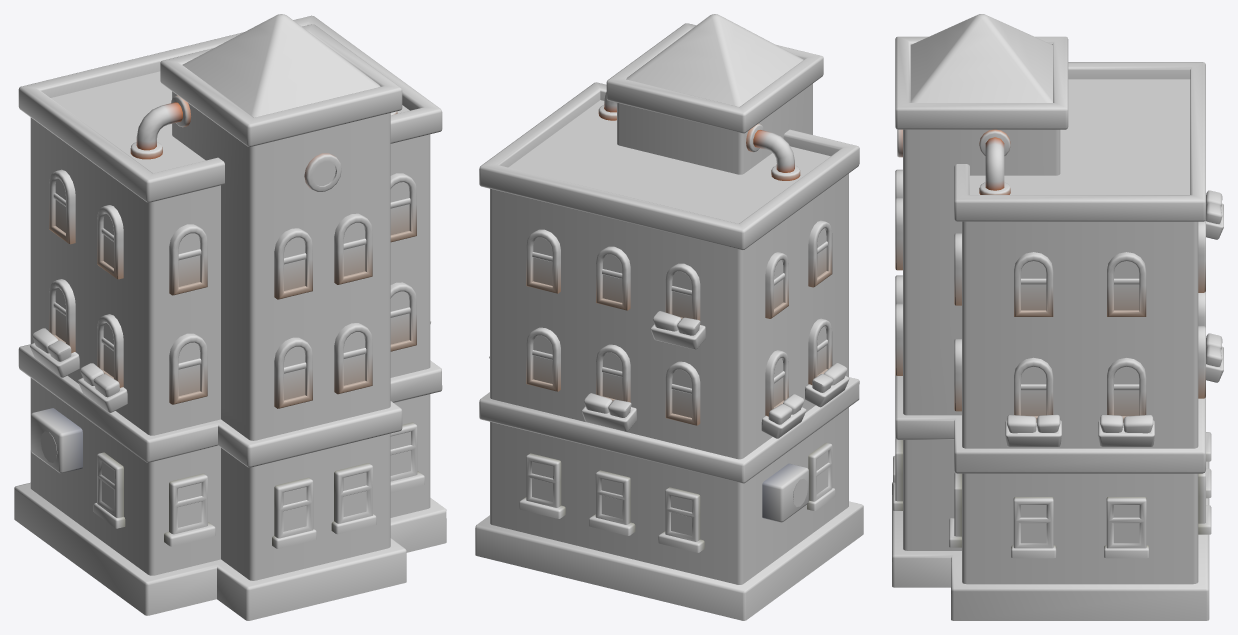
Rendered from NF_Bld_Apartment 50.fbx.
3 renders of one model, left to right at view 1: azimuth 30°, elevation 25°; view 2: azimuth 150°, elevation 25°; view 3: azimuth 270°, elevation 25°, orthographic. The views are drawn at different scales.
Visible parts, largest first — view 1: Apart_50; view 2: Apart_50; view 3: Apart_50.
Part boxes in pixels (x1,y1,x2,y2): Apart_50: [14, 14, 446, 620]; Apart_50: [475, 14, 863, 620]; Apart_50: [892, 14, 1223, 620].
Size of the model in its own units: 9.29 by 15 by 8.44.
